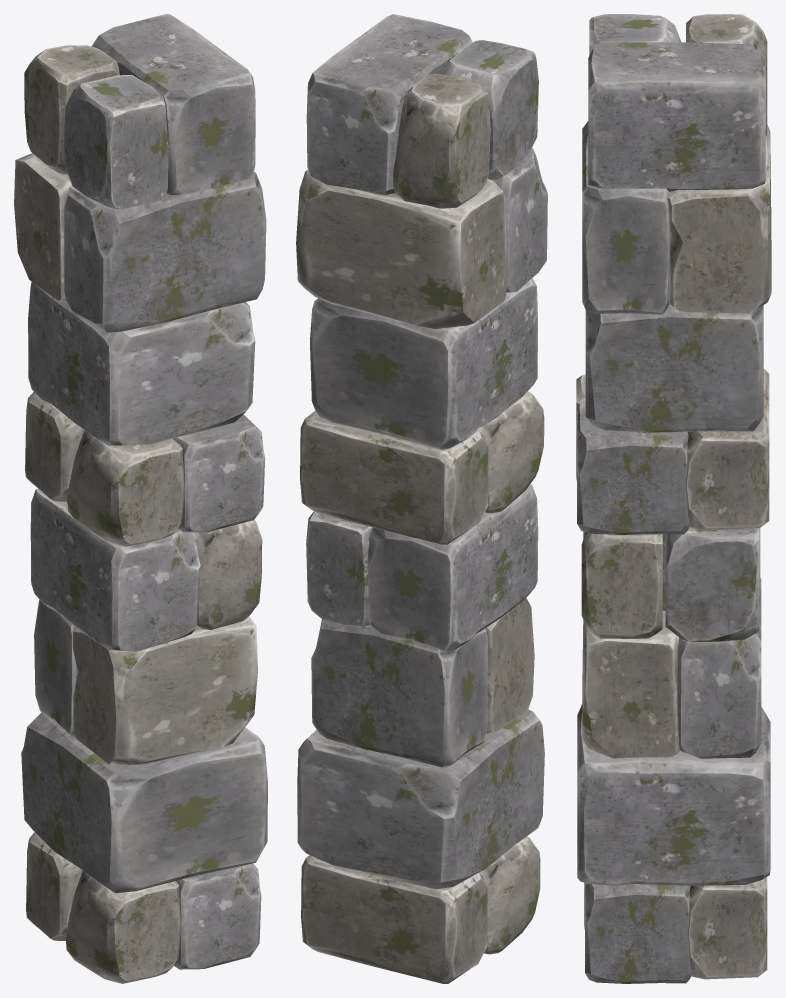
The picture shows the model from 3 angles, left to right: view 1: azimuth 30°, elevation 25°; view 2: azimuth 150°, elevation 25°; view 3: azimuth 270°, elevation 25°; orthographic projection. The views are drawn at different scales.
Visible parts, largest first — view 1: SM_BB_T3_Beam_Thick_Large_Vertical_LOD0; view 2: SM_BB_T3_Beam_Thick_Large_Vertical_LOD0; view 3: SM_BB_T3_Beam_Thick_Large_Vertical_LOD0.
Part boxes in pixels (box(x1,y1,x2,y2)): SM_BB_T3_Beam_Thick_Large_Vertical_LOD0: box(14, 14, 267, 983); SM_BB_T3_Beam_Thick_Large_Vertical_LOD0: box(296, 14, 547, 983); SM_BB_T3_Beam_Thick_Large_Vertical_LOD0: box(576, 14, 771, 983).
Size of the model in its own units: 0.5947 by 3.04 by 0.5984.
Materials: 1 (1 with a texture image).
